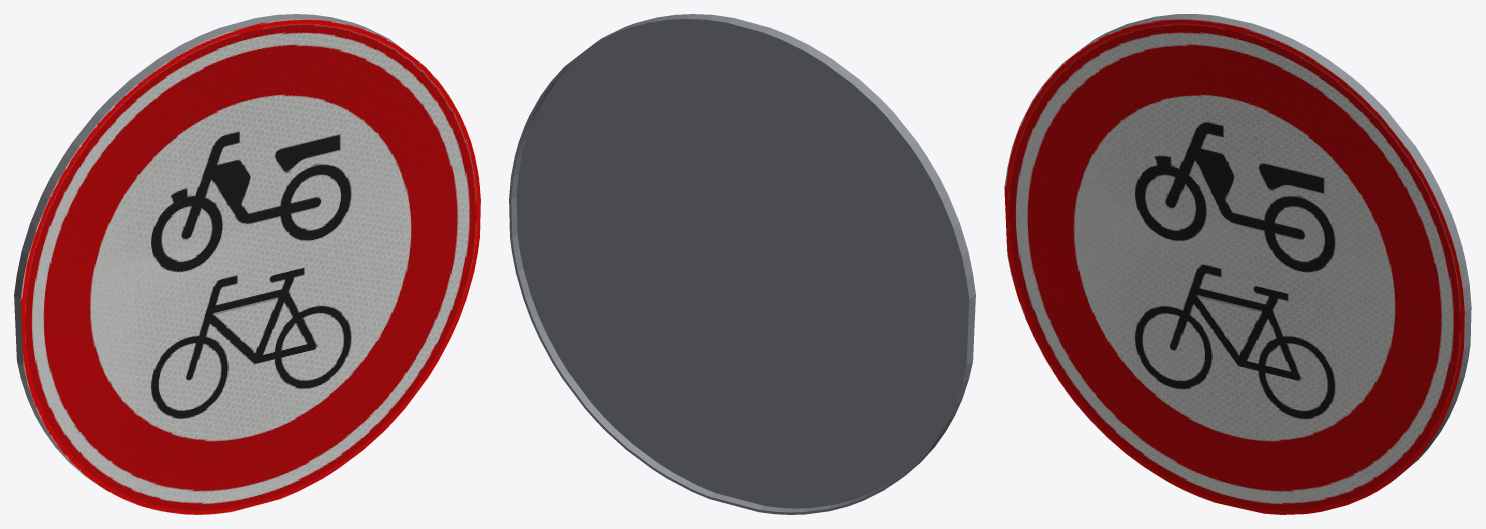
The picture shows the model from 3 angles, left to right: view 1: azimuth 30°, elevation 25°; view 2: azimuth 150°, elevation 25°; view 3: azimuth 330°, elevation 25°; orthographic projection.
Parts seen in each view (by area): view 1: cat_521bac257480f3d1; view 2: cat_521bac257480f3d1; view 3: cat_521bac257480f3d1.
Boxes of the visible parts, x1,y1,x2,y2 form: cat_521bac257480f3d1: (14,14,480,514); cat_521bac257480f3d1: (509,14,975,514); cat_521bac257480f3d1: (1004,14,1471,514).
Bounding box in the file's own units: 0.6 × 0.015 × 0.6.
2 materials, 1 textured.
